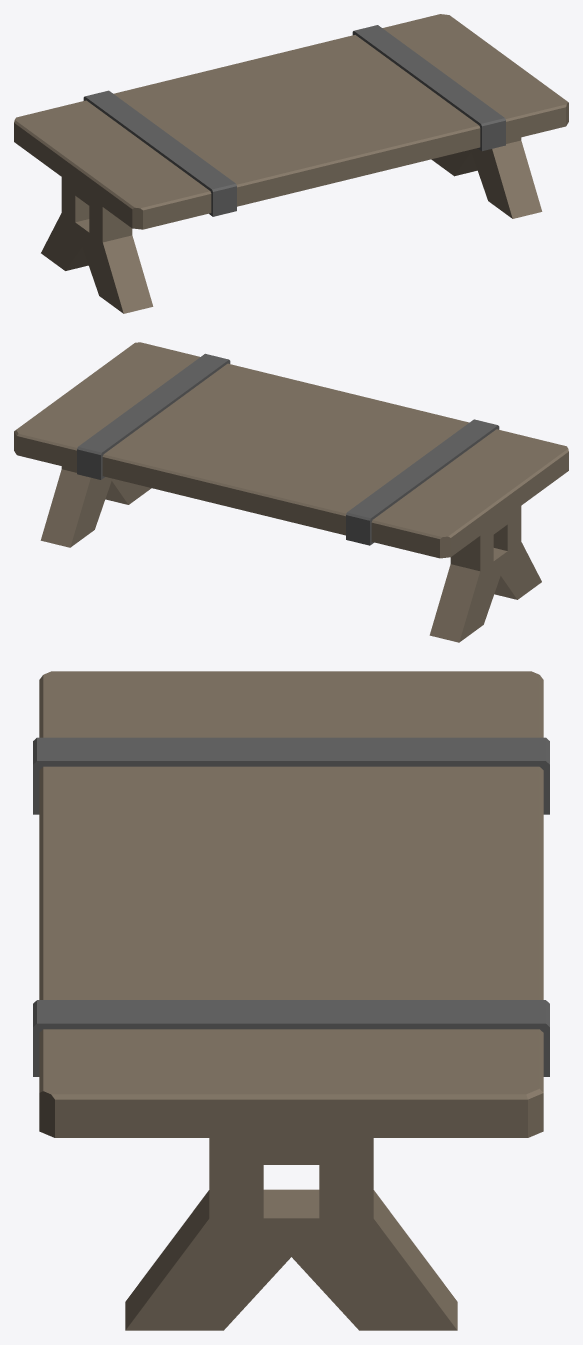
Rendered from Table.fbx.
The picture shows the model from 3 angles, top to bottom: view 1: azimuth 30°, elevation 25°; view 2: azimuth 150°, elevation 25°; view 3: azimuth 270°, elevation 25°; orthographic projection. The views are drawn at different scales.
Visible parts, largest first — view 1: Table; view 2: Table; view 3: Table.
Boxes of the visible parts, box(x1,y1,x2,y2) form: Table: box(14, 14, 568, 313); Table: box(14, 342, 568, 642); Table: box(33, 671, 549, 1330).
Bounding box in the file's own units: 400 × 109 × 205.
